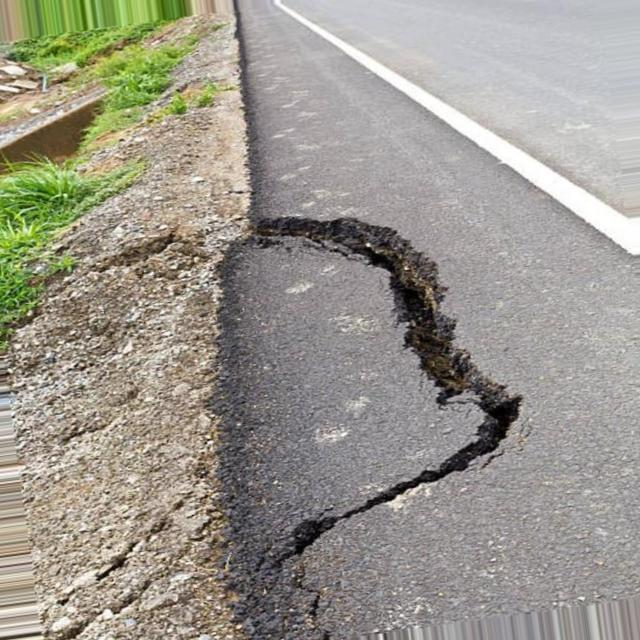Pinggir: (178, 206, 536, 590)
